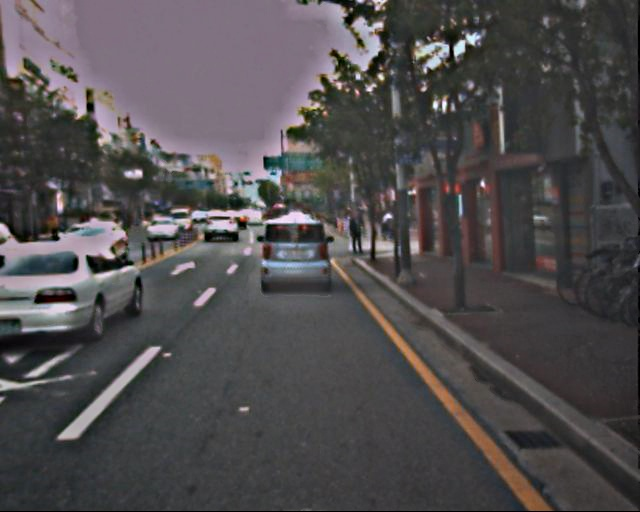person: (346, 207, 366, 256)
